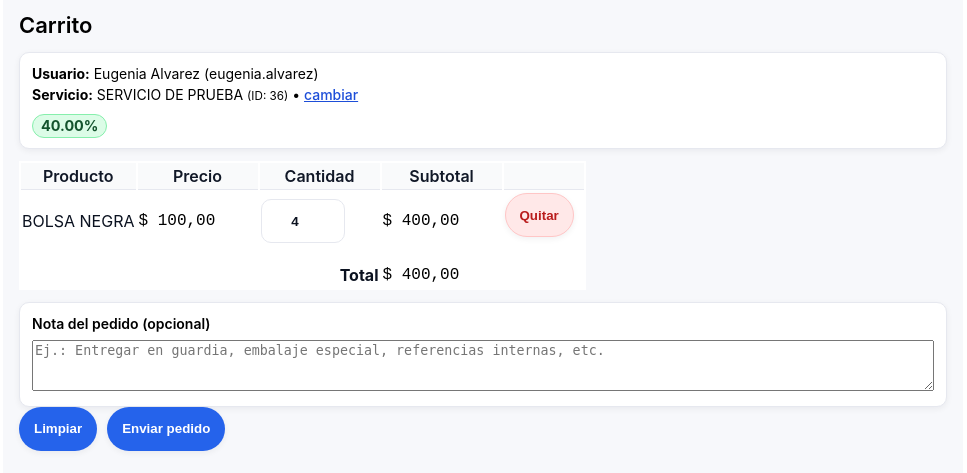
Scenario: Cart — editar la cantidad › si se deja vacío y se sale, vuelve la cantidad anterior
Clear the number field named "Cantidad de BOLSA NEGRA" at [302, 221], box [260,199,344,243]
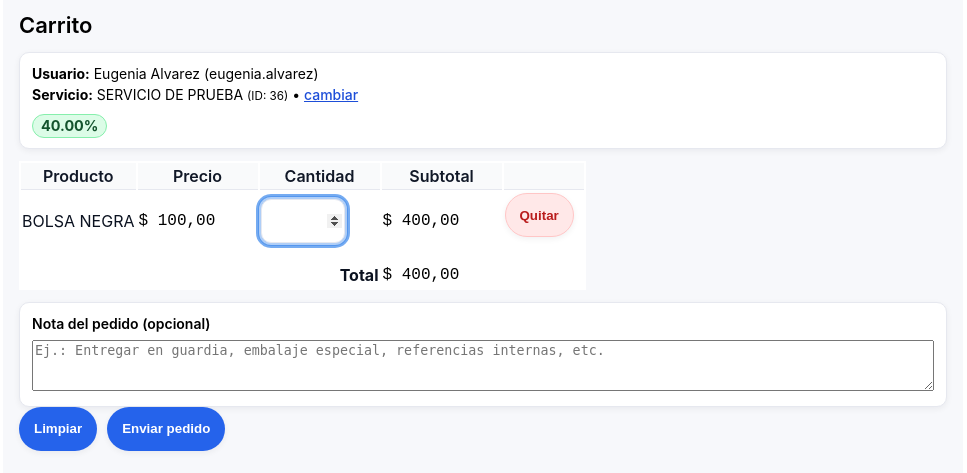
Press Tab
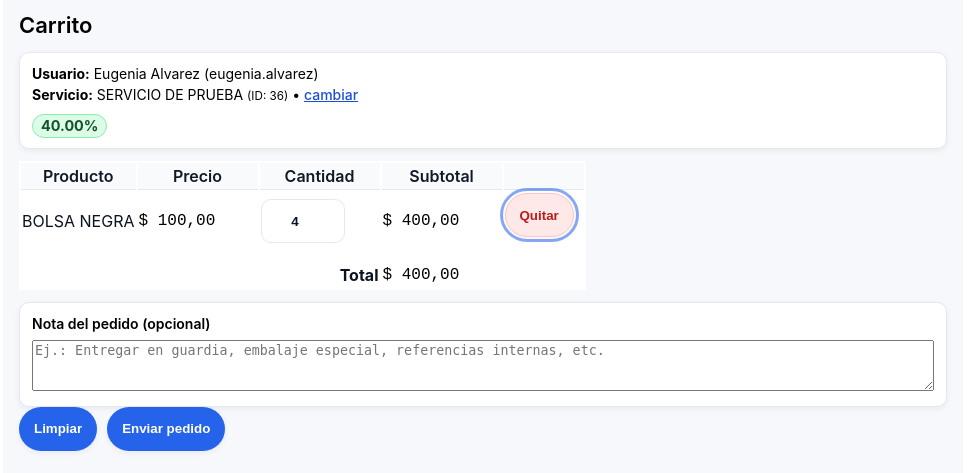
Expected: the number field named "Cantidad de BOLSA NEGRA" holds "4", [260,199,344,243]
